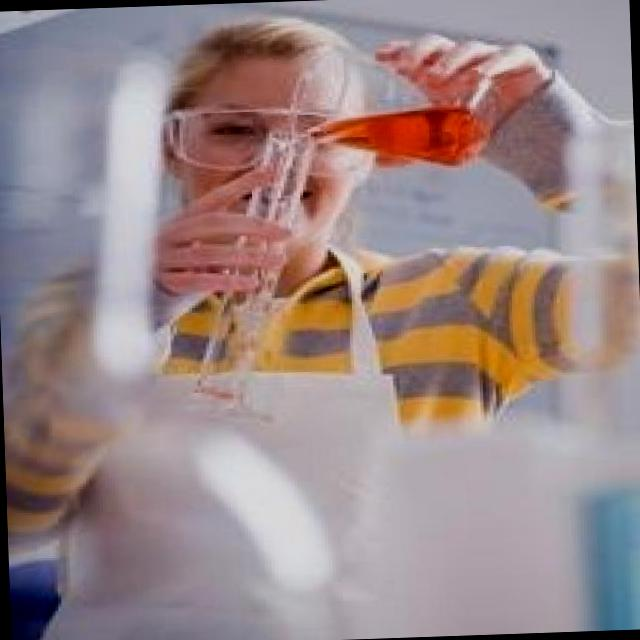no_vest: (168, 220, 558, 377)
